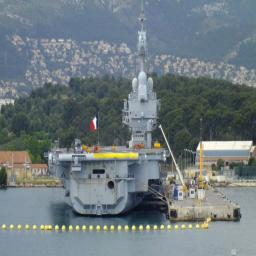Portanaves: (46, 2, 163, 221)
